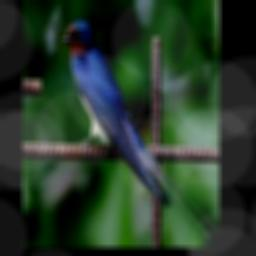Swallow: (61, 20, 217, 238)
